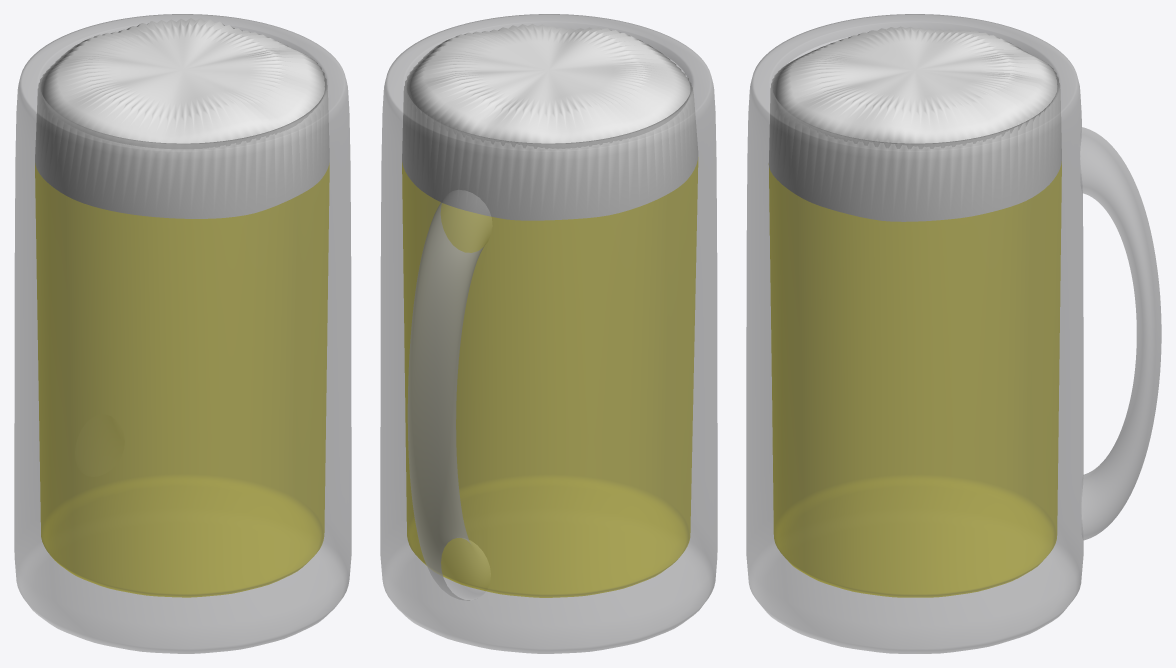
File: beer.fbx
3 renders of one model, left to right at view 1: azimuth 30°, elevation 25°; view 2: azimuth 150°, elevation 25°; view 3: azimuth 270°, elevation 25°, orthographic.
Visible parts, largest first — view 1: pCylinder6; view 2: pCylinder6; view 3: pCylinder6.
Boxes of the visible parts, x1=… form: pCylinder6: x1=14, y1=14, x2=351, y2=653; pCylinder6: x1=380, y1=14, x2=717, y2=653; pCylinder6: x1=746, y1=14, x2=1161, y2=653.
Bounding box in the file's own units: 1.97 × 3.36 × 2.42.
